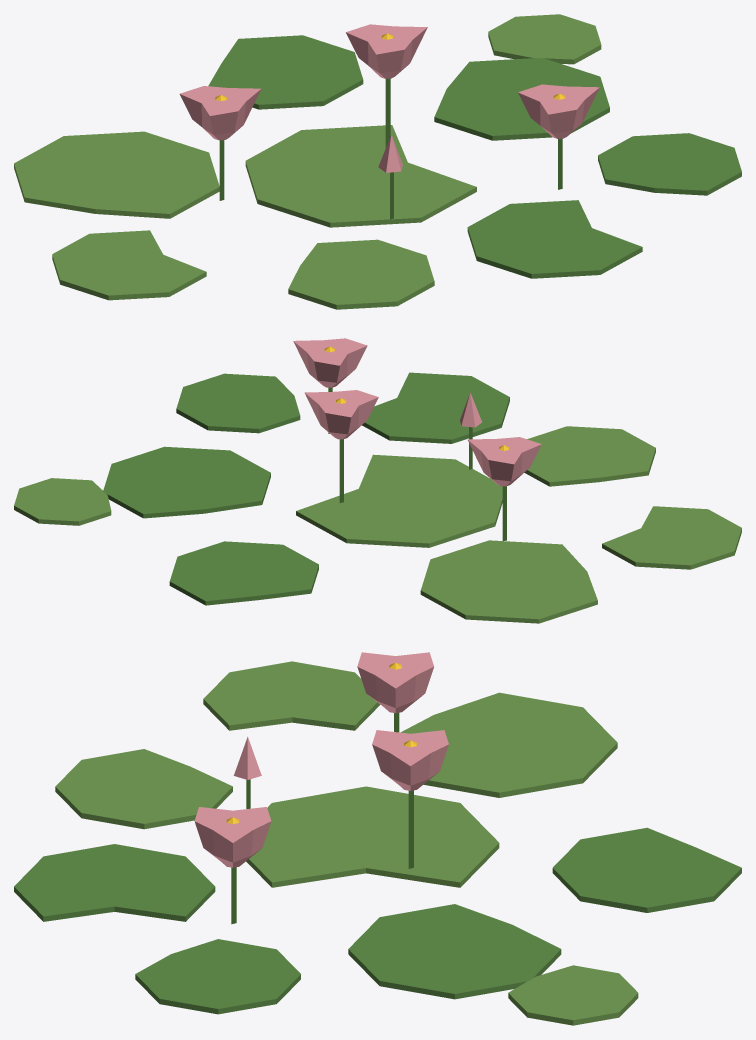
Rendered from lotus_patch.glb.
3 renders of one model, top to bottom at view 1: azimuth 30°, elevation 25°; view 2: azimuth 150°, elevation 25°; view 3: azimuth 270°, elevation 25°, orthographic. The views are drawn at different scales.
Parts seen in each view (by area): view 1: lotus_patch; view 2: lotus_patch; view 3: lotus_patch.
Part boxes in pixels (x1=…): lotus_patch: x1=14, y1=14, x2=741, y2=309; lotus_patch: x1=14, y1=338, x2=741, y2=623; lotus_patch: x1=14, y1=652, x2=741, y2=1025.
Size of the model in its own units: 2.87 by 0.495 by 2.46.
